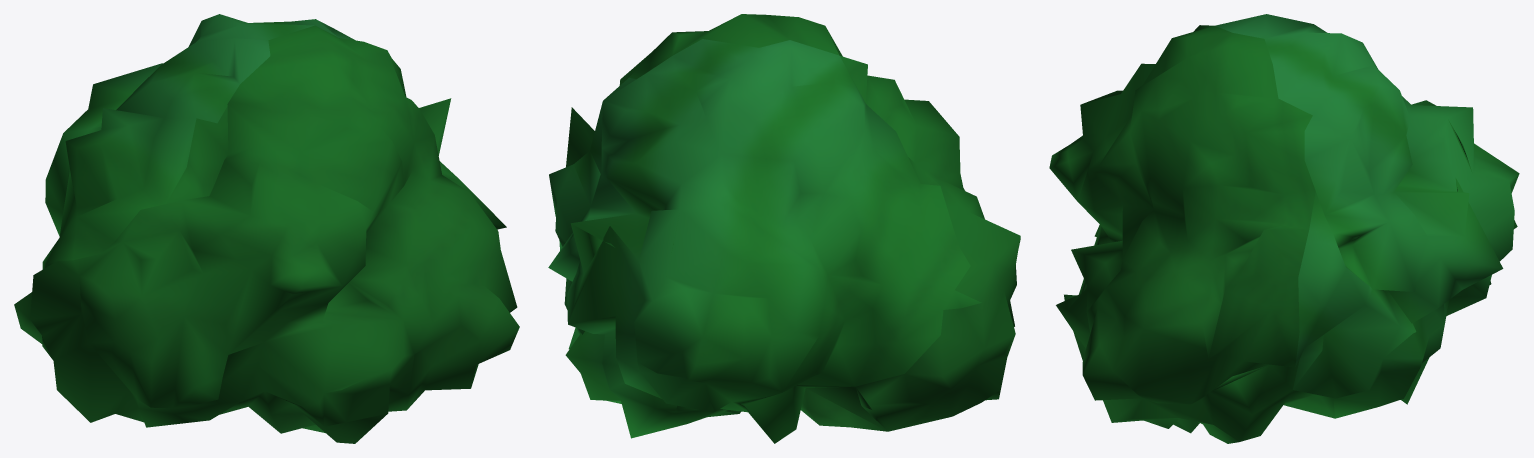
Rendered from bush_01.fbx.
The picture shows the model from 3 angles, left to right: view 1: azimuth 30°, elevation 25°; view 2: azimuth 150°, elevation 25°; view 3: azimuth 270°, elevation 25°; orthographic projection. The views are drawn at different scales.
Visible parts, largest first — view 1: bush_01_LOD0; view 2: bush_01_LOD0; view 3: bush_01_LOD0.
Part boxes in pixels (x1=…): bush_01_LOD0: x1=14, y1=14, x2=519, y2=443; bush_01_LOD0: x1=548, y1=14, x2=1020, y2=443; bush_01_LOD0: x1=1049, y1=14, x2=1519, y2=443.
Size of what is drawn, in the model's own units: 76.64 by 63.44 by 69.68.
